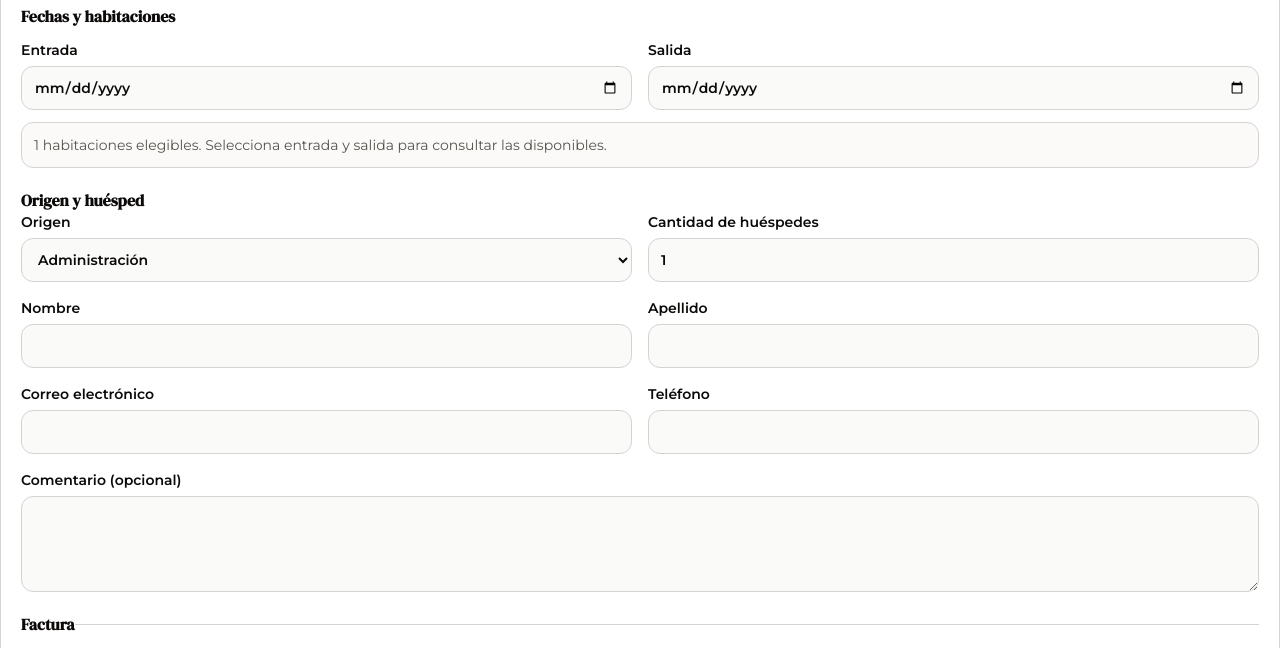
Test: manual reservation form › rejects a check-in date before today, matching the public search rule
The image size is (1280, 648).
(page scrolled)
Submit the form named "Crear reserva manual"
(page scrolled)
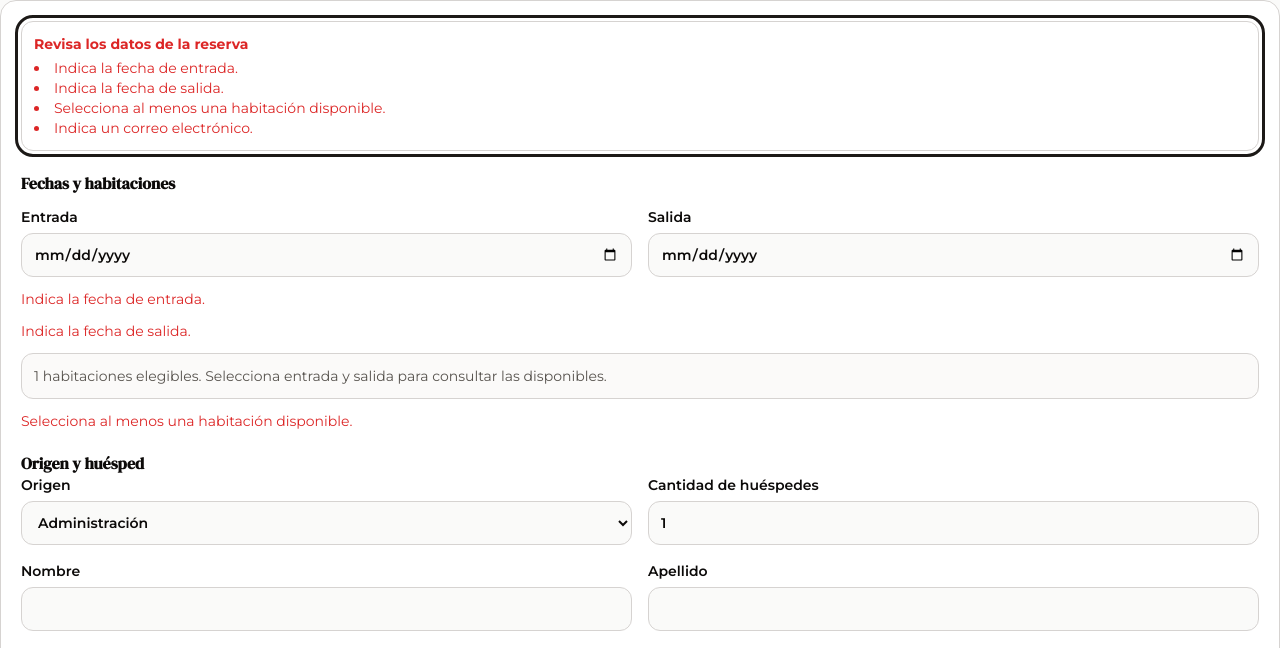
Type "2000-01-01" into the date field labelled "Entrada" at point(326, 255), box [21,233,632,277]
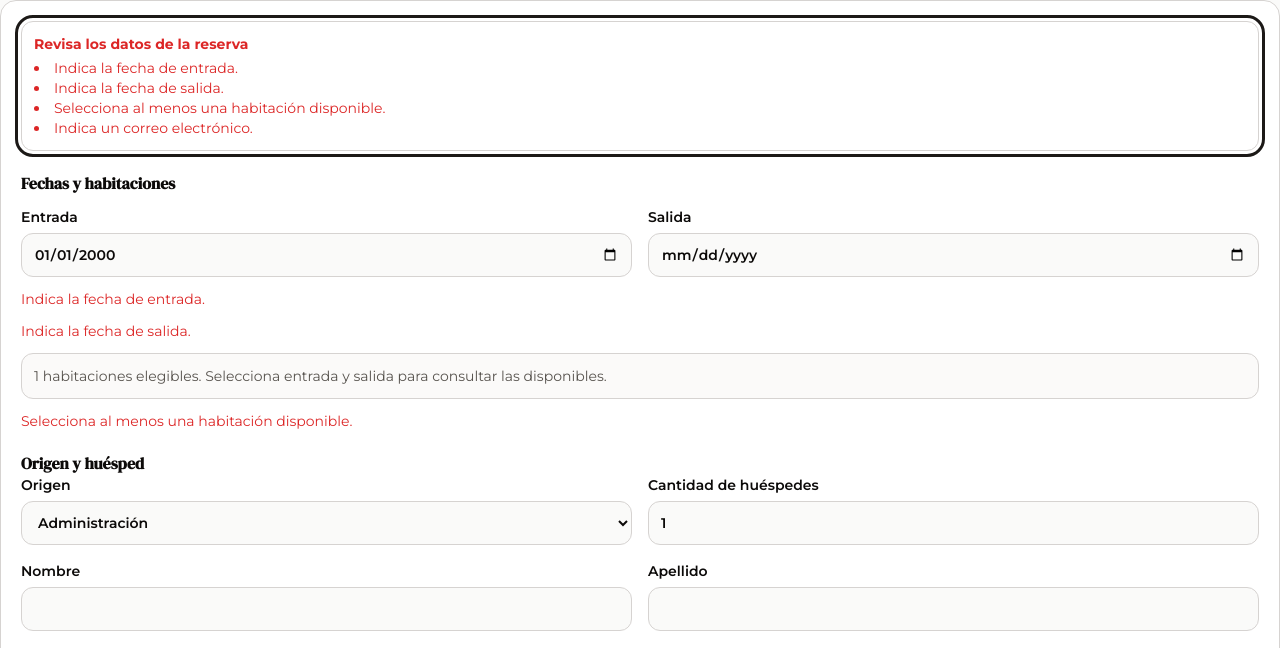
Type "2000-01-02" into the date field labelled "Salida" at point(954, 255), box [648,233,1259,277]
(page scrolled)
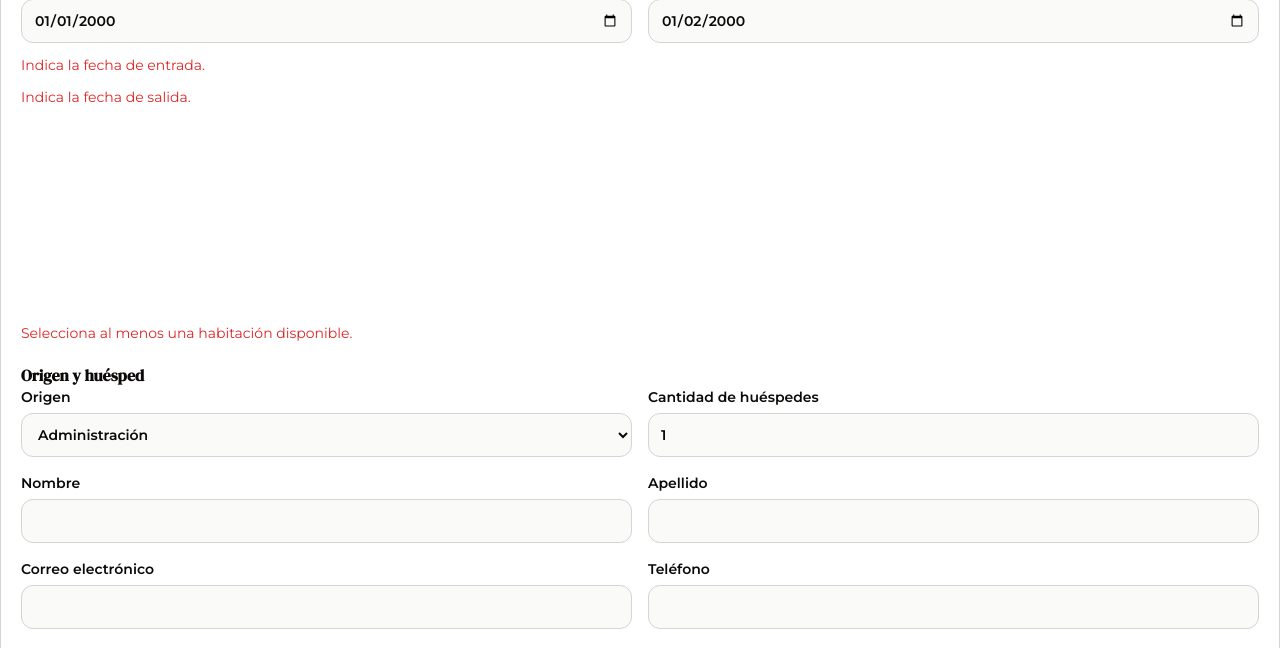
Submit the form named "Crear reserva manual"
(page scrolled)
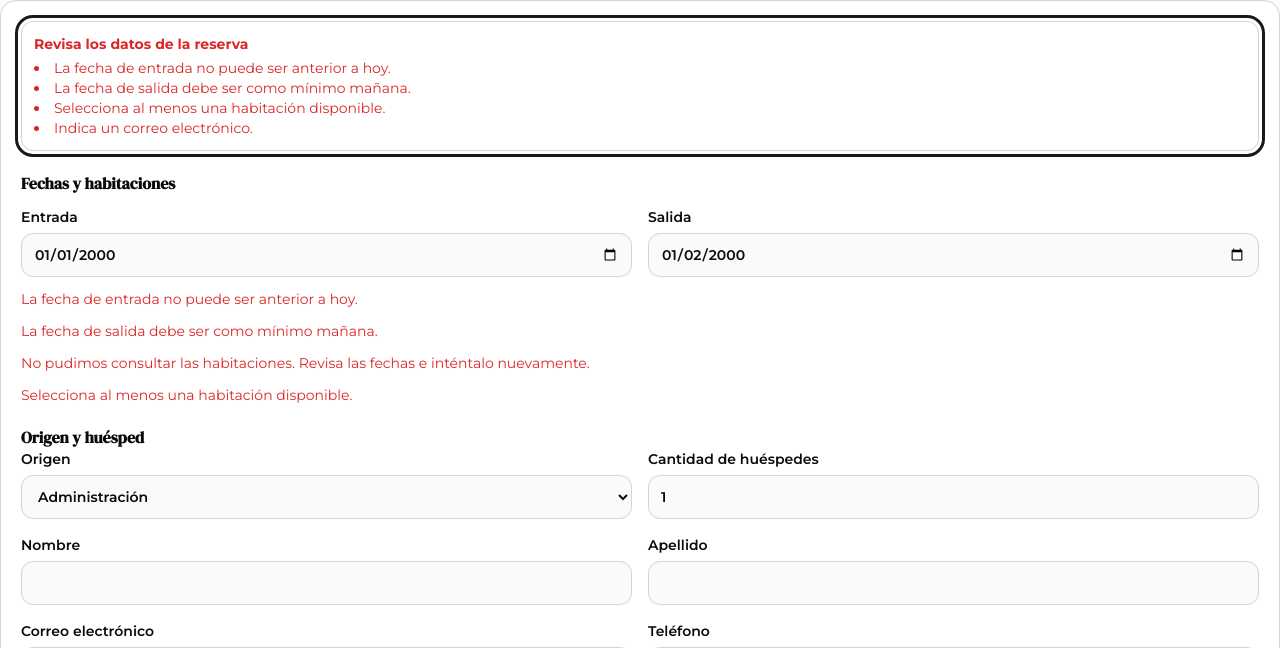
Expected: the list item "La fecha de entrada no puede ser anterior a hoy." is shown, [54,59,391,77]
